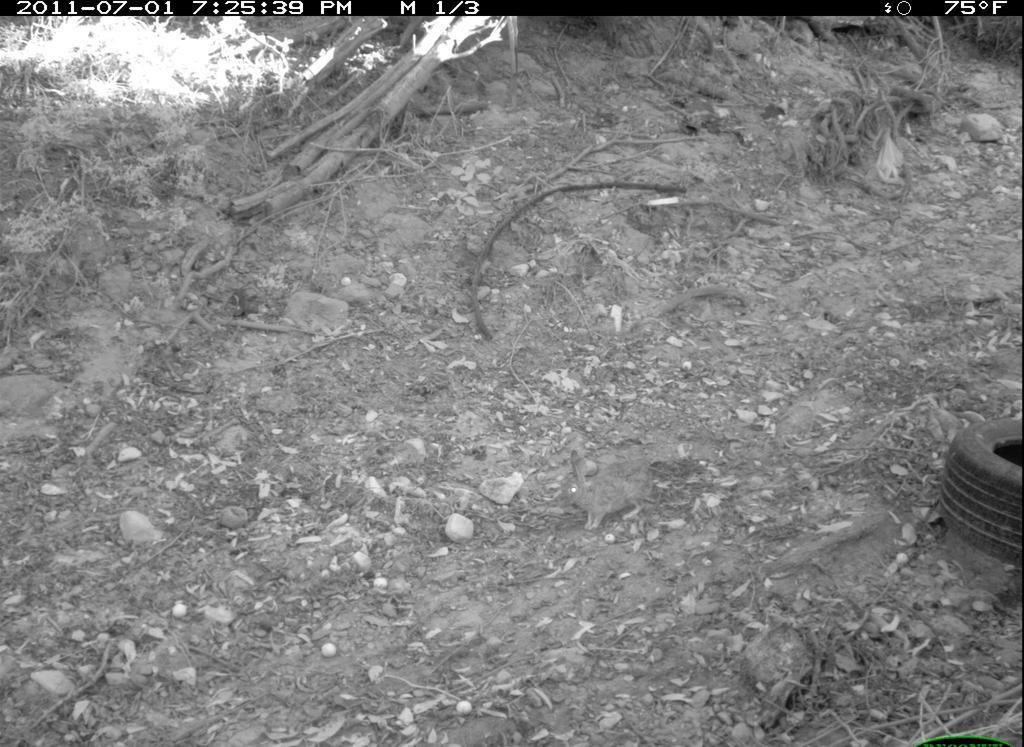rabbit: (553, 438, 664, 543)
